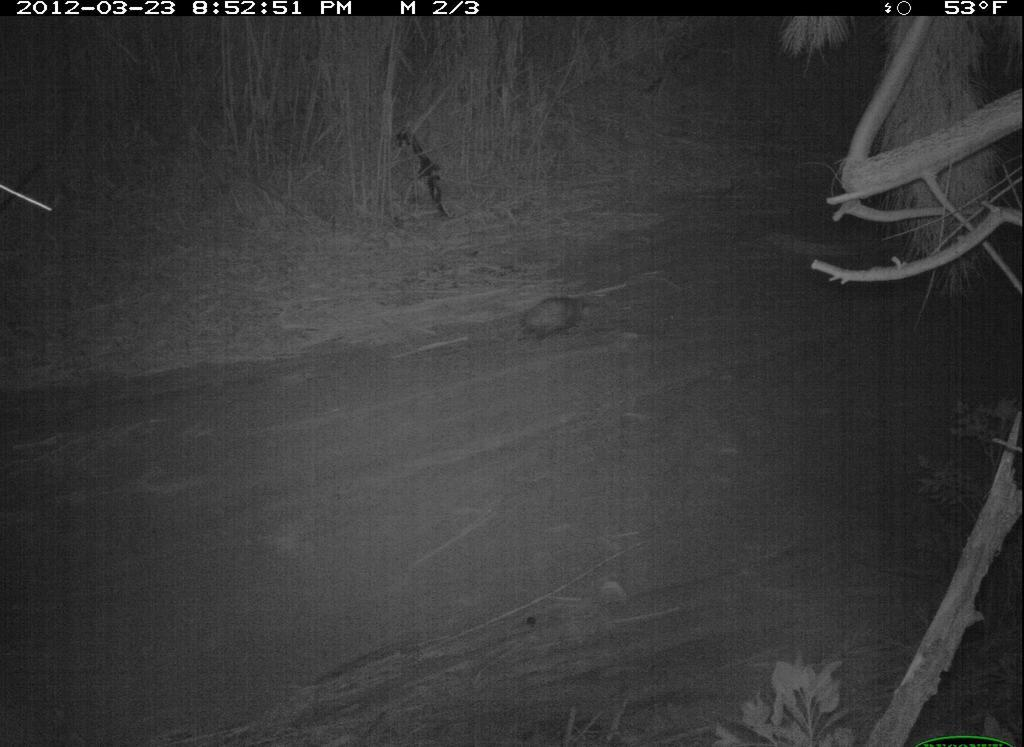opossum: (507, 281, 610, 351)
